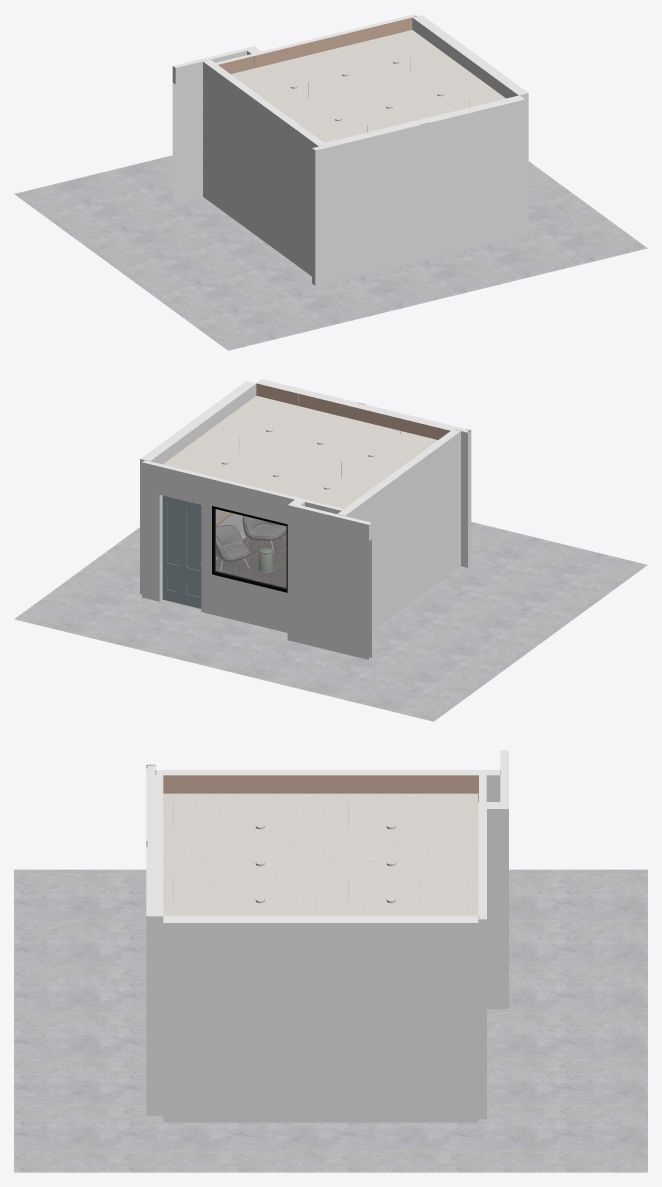
The model's file is breakroom_a.glb.
3 views of the same model, one above another, from view 1: azimuth 30°, elevation 25°; view 2: azimuth 150°, elevation 25°; view 3: azimuth 270°, elevation 25° (orthographic). The views are drawn at different scales.
Parts seen in each view (by area): view 1: walls, floor, ceiling; view 2: floor, walls, ceiling, window, door, chair, chair.003; view 3: floor, walls, ceiling.
Boxes of the visible parts, x1,y1,x2,y2 form: walls: (172, 14, 528, 285); floor: (14, 155, 647, 350); ceiling: (231, 30, 505, 142); floor: (14, 522, 647, 721); walls: (140, 379, 471, 659); ceiling: (163, 396, 437, 508); window: (212, 506, 287, 592); door: (162, 495, 201, 608); chair: (216, 524, 249, 571); chair.003: (242, 516, 286, 553); floor: (14, 869, 647, 1172); walls: (146, 750, 508, 1122); ceiling: (163, 793, 478, 915).
Bounding box in the file's own units: 394 × 125 × 348.
52 materials, 25 textured.
